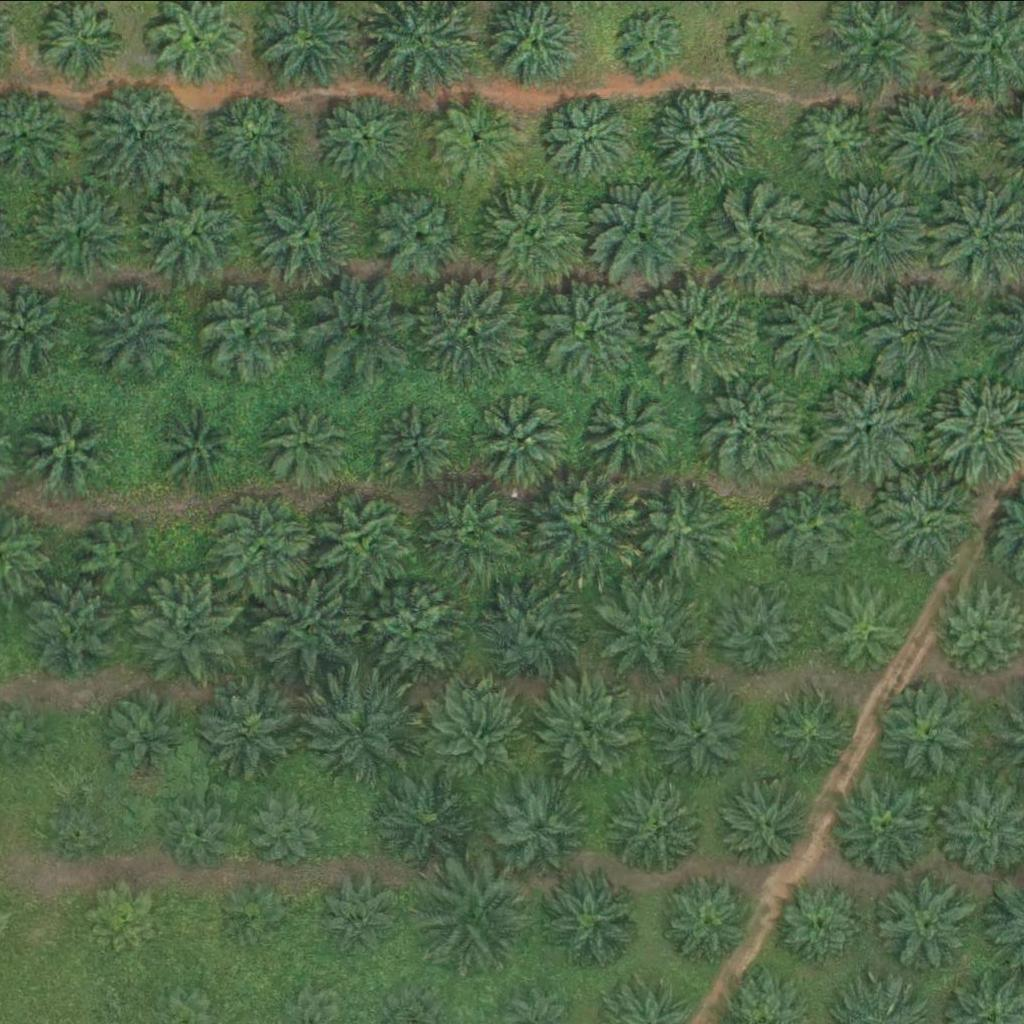Kelapa_Sawit: (374, 762, 488, 875), (482, 766, 596, 879), (138, 175, 252, 288), (84, 75, 198, 188), (866, 465, 980, 578), (533, 670, 647, 783), (132, 569, 245, 682), (419, 269, 532, 382), (538, 274, 651, 387), (704, 181, 817, 294), (817, 177, 930, 290), (642, 276, 755, 389), (762, 274, 875, 387), (873, 675, 986, 788), (416, 858, 530, 970), (812, 369, 926, 481), (597, 573, 711, 685), (194, 676, 307, 788), (309, 675, 422, 787), (256, 570, 369, 682), (474, 573, 587, 685), (426, 469, 539, 581), (298, 270, 411, 382), (245, 177, 358, 289), (476, 180, 589, 292), (648, 78, 761, 190), (879, 84, 992, 196), (589, 178, 702, 290), (864, 274, 977, 386), (696, 368, 809, 480), (530, 472, 643, 584), (830, 769, 943, 881), (152, 779, 253, 879), (28, 574, 129, 674), (369, 575, 470, 675), (214, 486, 315, 586), (311, 488, 412, 588), (153, 396, 254, 496), (471, 389, 572, 489), (194, 280, 295, 380), (365, 183, 466, 283), (580, 383, 681, 483), (537, 870, 638, 970), (653, 869, 754, 969), (871, 873, 972, 973), (430, 679, 530, 779), (81, 272, 181, 372), (29, 180, 129, 280), (203, 86, 303, 186), (317, 86, 417, 186), (639, 480, 739, 580), (769, 479, 869, 579), (812, 580, 912, 680), (654, 683, 754, 783), (607, 776, 707, 876), (100, 690, 188, 778), (549, 93, 637, 181), (789, 96, 877, 184), (727, 780, 815, 868), (775, 878, 863, 966), (374, 399, 463, 486), (261, 396, 349, 483), (433, 94, 521, 181), (720, 591, 808, 678), (767, 693, 855, 780), (322, 879, 398, 954), (34, 407, 110, 482), (79, 512, 154, 587), (256, 799, 319, 862), (98, 886, 161, 949), (229, 879, 292, 942), (622, 7, 685, 70), (733, 12, 796, 75), (55, 796, 118, 858)
